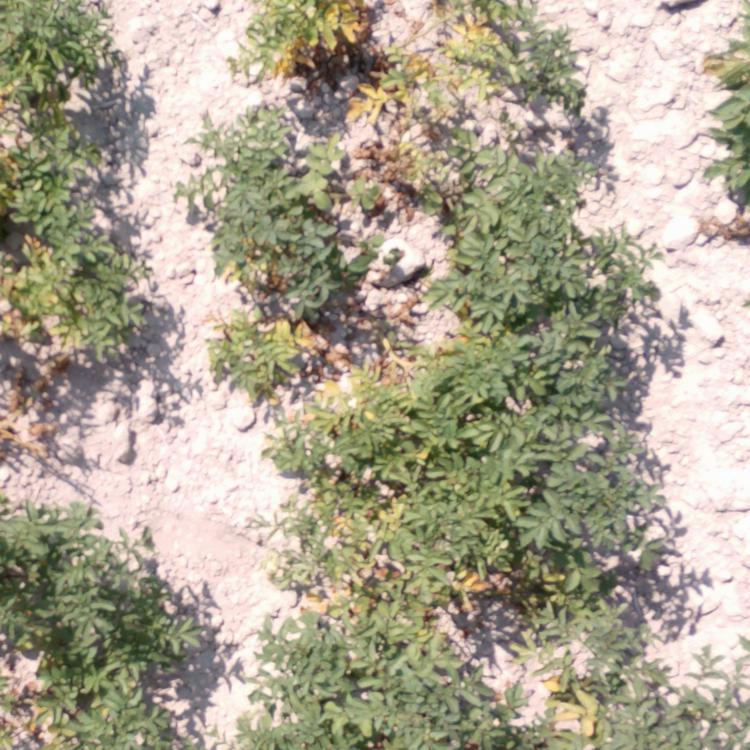healthy: (1, 495, 179, 745), (458, 144, 637, 311), (272, 628, 474, 742), (464, 363, 643, 481), (191, 113, 328, 206), (1, 3, 97, 97), (638, 663, 748, 741)
stressed: (274, 482, 636, 615), (1, 142, 113, 420), (211, 222, 344, 369), (229, 1, 404, 107), (280, 371, 441, 480), (485, 630, 627, 750), (432, 3, 594, 106), (698, 30, 750, 199), (349, 114, 452, 188)
